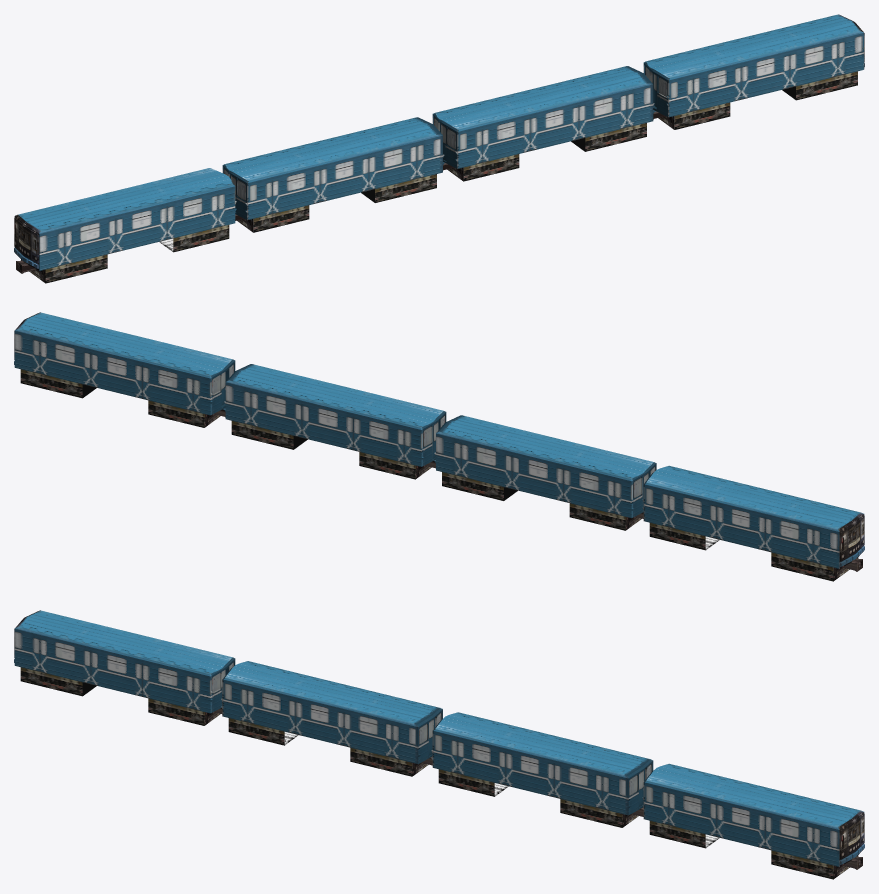
File: moscow-metro-81-717.glb
3 views of the same model, one above another, from view 1: azimuth 30°, elevation 25°; view 2: azimuth 150°, elevation 25°; view 3: azimuth 330°, elevation 25° (orthographic).
Parts seen in each view (by area): view 1: 81-717rear, 81-717_Material.003_0, 81-714_Material.002_0, 81-714.2_Material.001_0; view 2: 81-717rear, 81-717_Material.003_0, 81-714_Material.002_0, 81-714.2_Material.001_0; view 3: 81-717_Material.003_0, 81-714_Material.002_0, 81-714.2_Material.001_0, 81-717rear.
Boxes of the visible parts, x1,y1,x2,y2 form: 81-717rear: (14,168,236,283); 81-717_Material.003_0: (643,14,864,129); 81-714_Material.002_0: (432,66,654,181); 81-714.2_Material.001_0: (222,117,444,232); 81-717rear: (642,465,864,581); 81-717_Material.003_0: (14,312,235,427); 81-714_Material.002_0: (224,364,446,479); 81-714.2_Material.001_0: (434,415,656,530); 81-717_Material.003_0: (642,763,864,879); 81-714_Material.002_0: (431,712,653,827); 81-714.2_Material.001_0: (221,661,442,776); 81-717rear: (14,610,235,725).
Size of the model in its own units: 39.22 by 2.39 by 2.
Materials: 4 (4 with a texture image).
